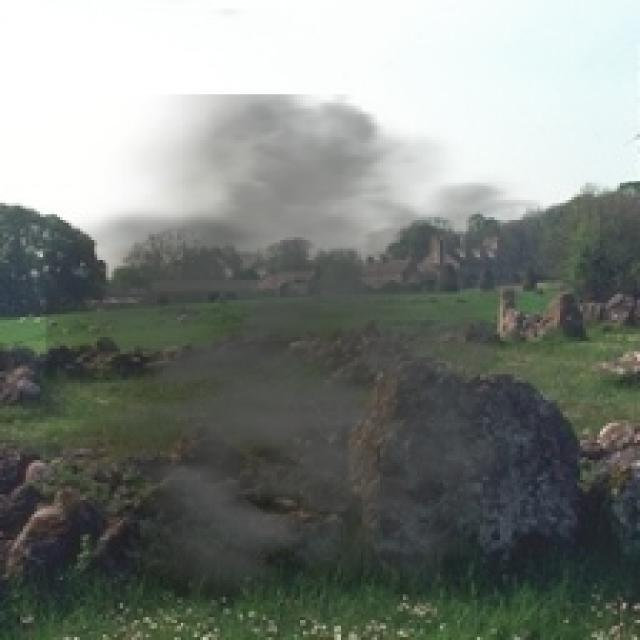Smoke: (46, 95, 594, 634)
